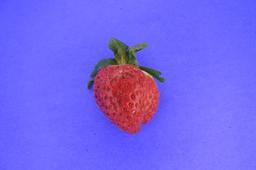red strawberry: (92, 54, 164, 136)
